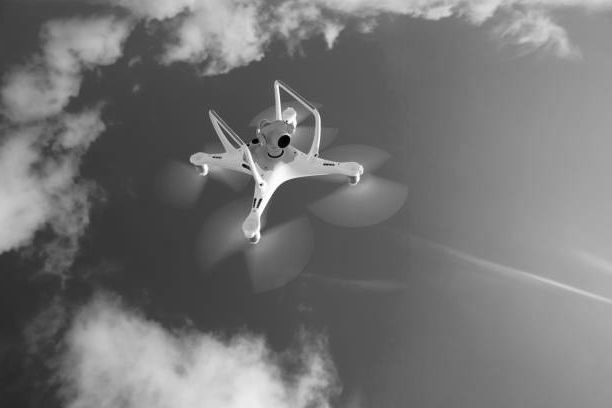Drone: (149, 73, 413, 289)
